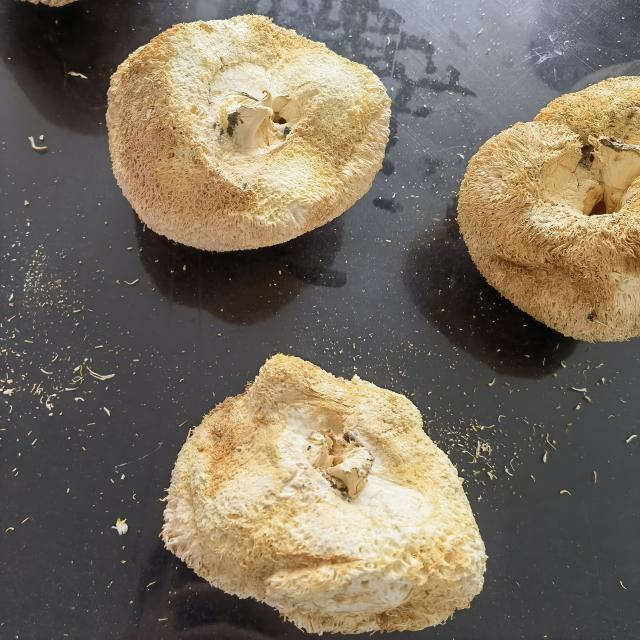Hericium erinaceus: (160, 354, 484, 632), (107, 14, 394, 254), (456, 70, 640, 345)
